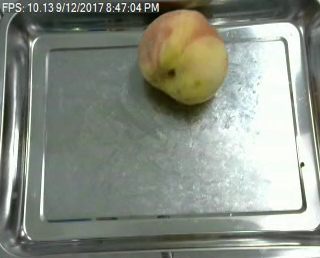Peach: (137, 9, 228, 104)
